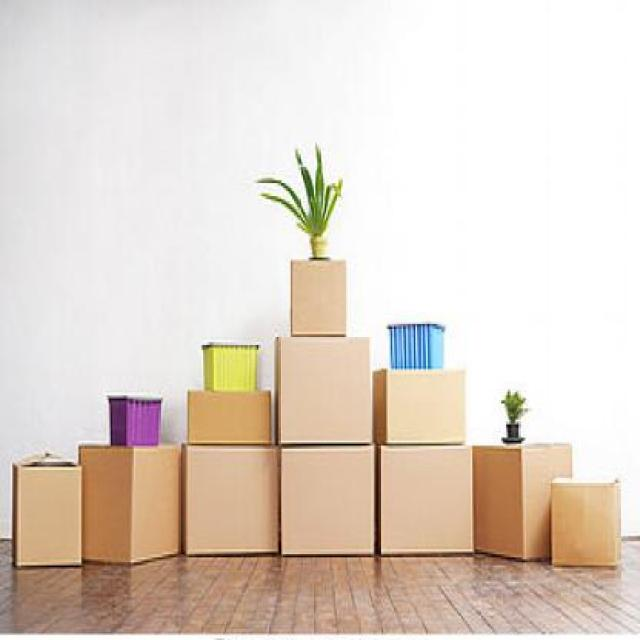box: (86, 428, 183, 567), (474, 438, 572, 565), (180, 447, 280, 561), (378, 449, 482, 556), (280, 449, 377, 556), (275, 341, 376, 438), (12, 450, 82, 563), (552, 484, 622, 581), (380, 368, 471, 436), (289, 256, 353, 337), (188, 384, 275, 439)
